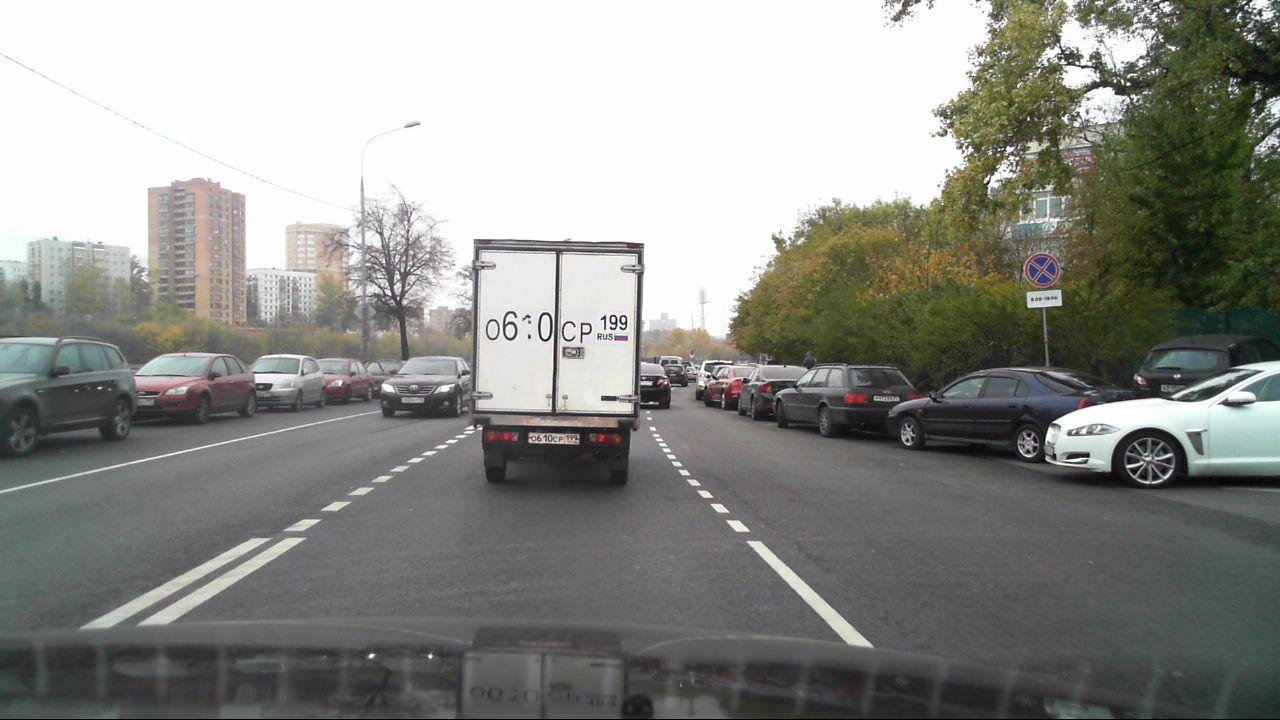3_27: (1019, 248, 1060, 287)
8_5_4: (1025, 289, 1061, 307)
